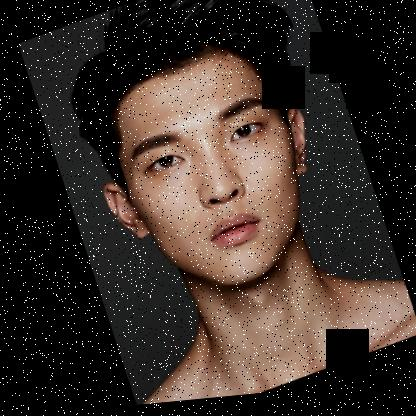Male: (70, 33, 342, 325)
